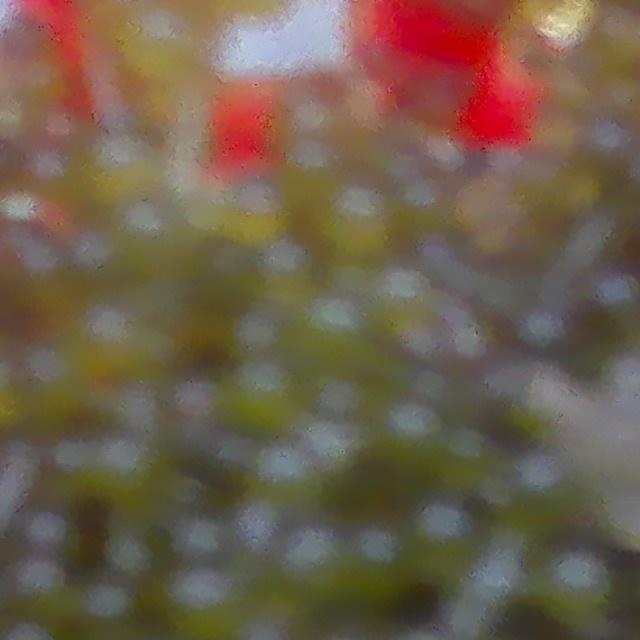SeaGrape: (540, 549, 611, 621)
